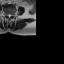CCS_normal: (8, 12, 10, 20)
LFS_normal: (11, 12, 13, 17)
LLS_normal: (10, 12, 11, 18)
RFS_normal: (5, 12, 7, 17)
RLS_normal: (7, 12, 8, 18)
